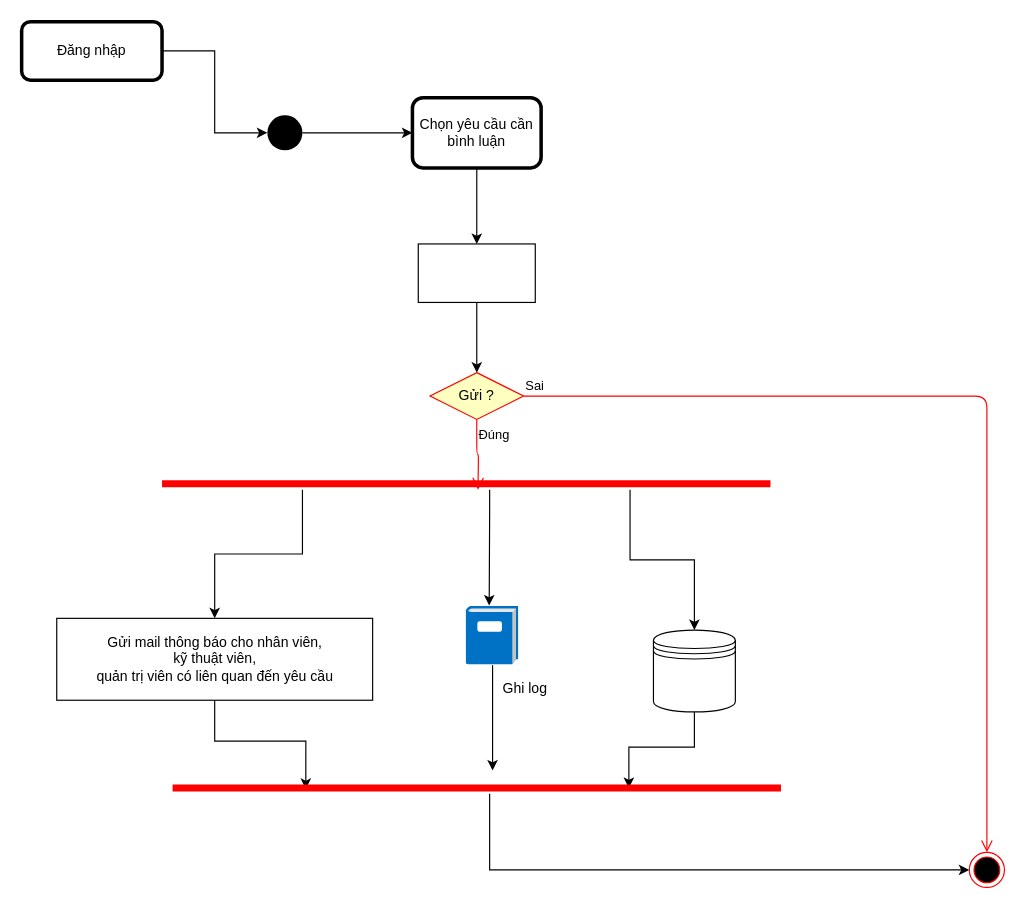
Some shapes in this 1025 by 908 pixel diagram are drawn without their labels. The box of each missing label's shape, as (x1, y1, x2, y2) in pixels:
Lưu vào CSDL: (652, 629, 735, 712)
Nhập bình luận: (417, 243, 535, 302)
